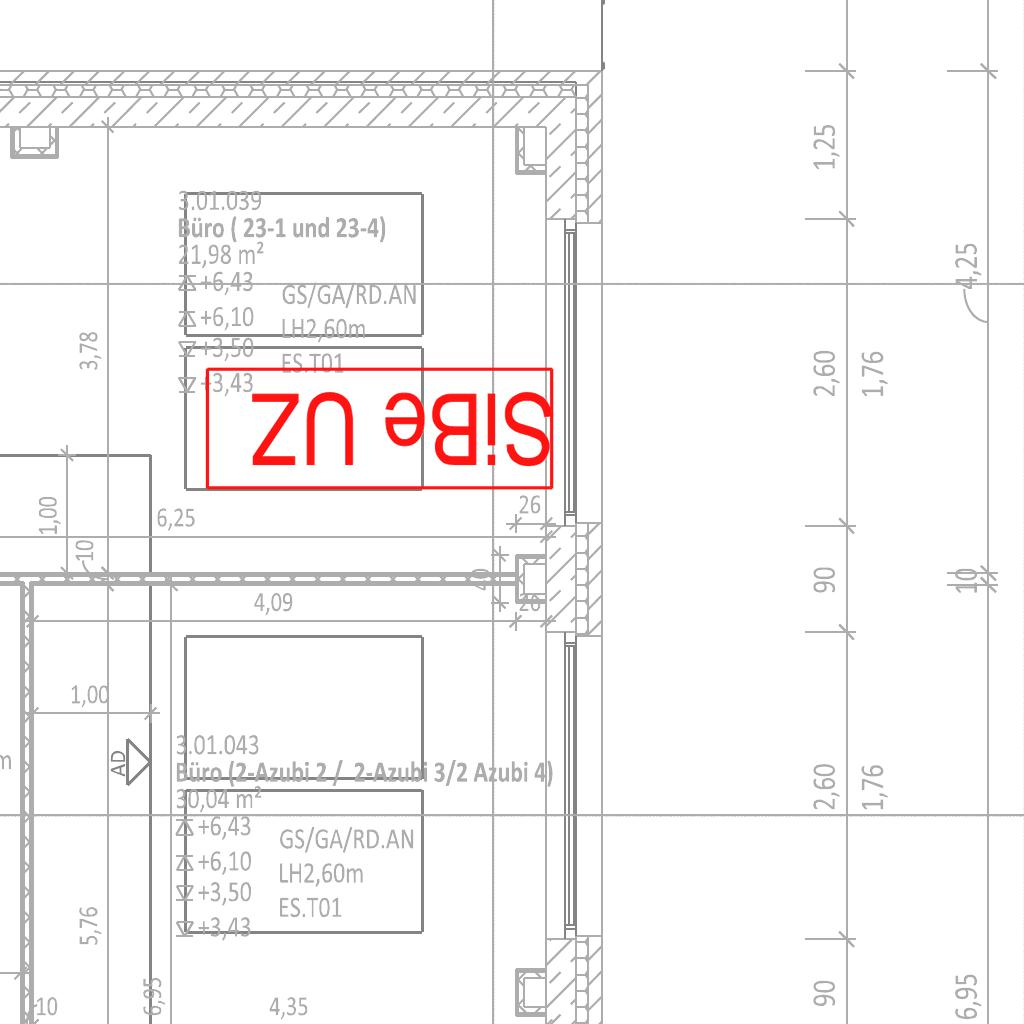Zentrale_Sicherheitsbeleuchtung: (200, 363, 557, 493)
